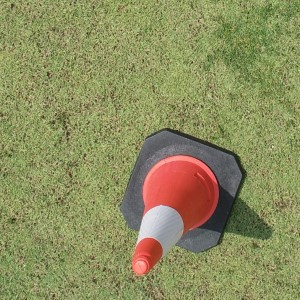traffic cone: (120, 128, 242, 276)
